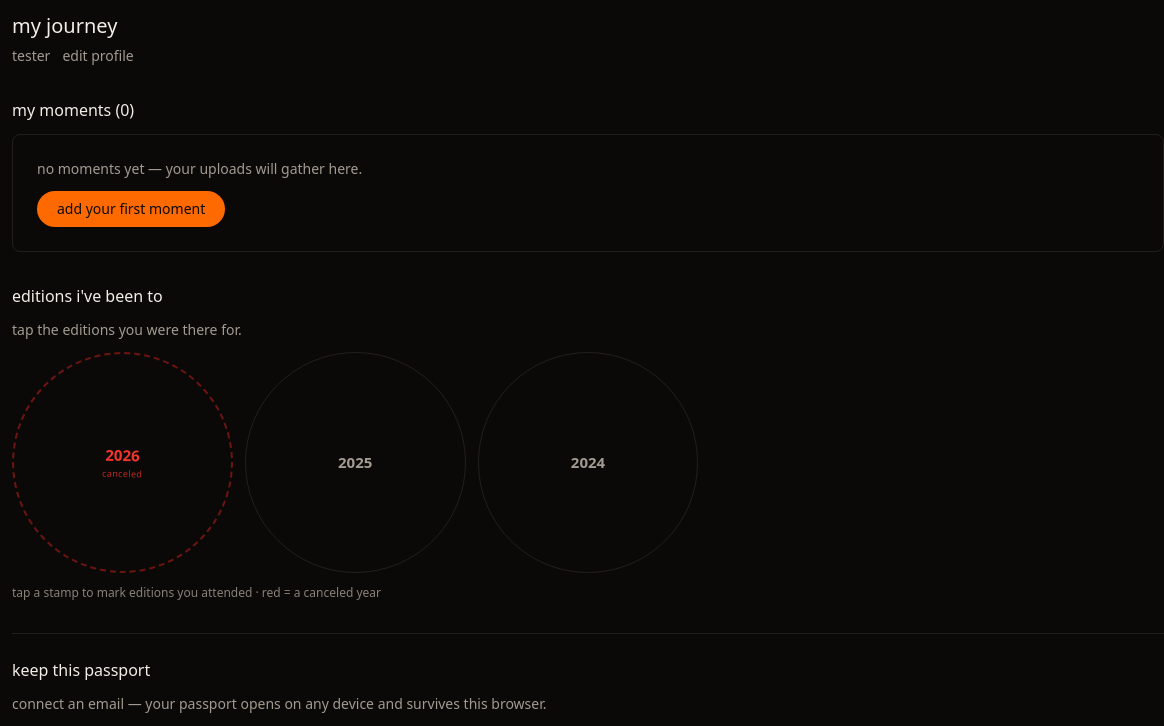
Passport › a failed attendance toggle rolls back the stamp and shows an error
Click the button "2025" at [355, 462], box [245,352,466,573]
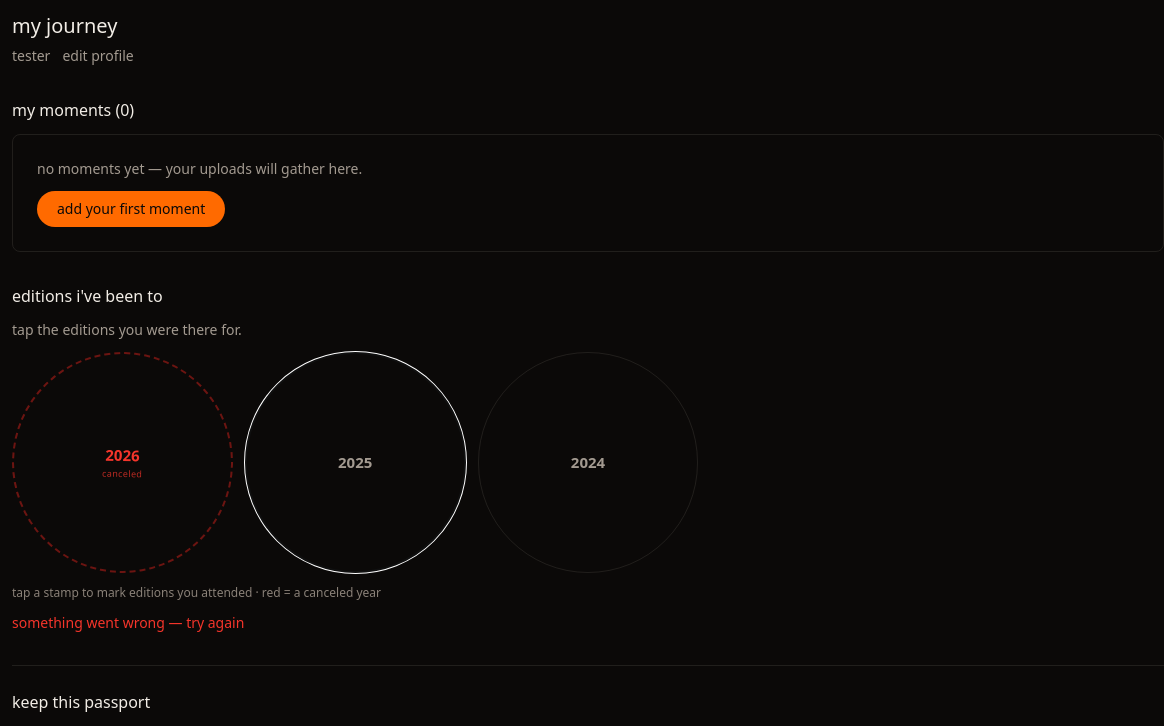
Check: the message "something went wrong — try again" is shown, box [12,613,244,632]
